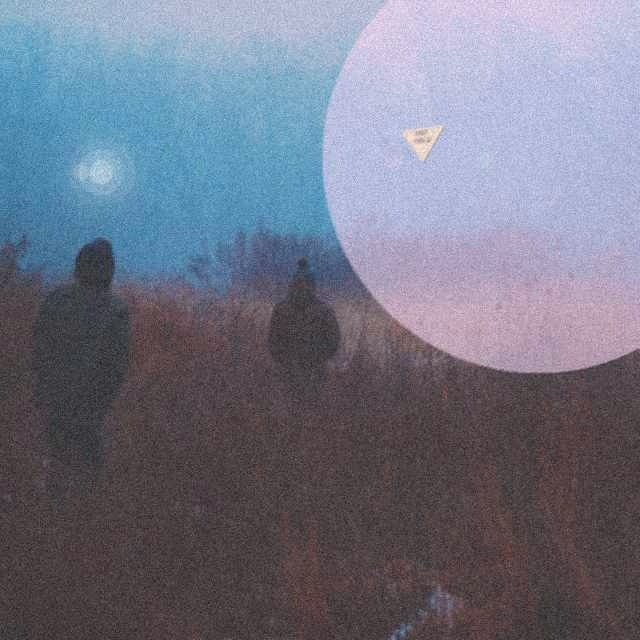NOT_YIELD: (401, 123, 447, 163)
